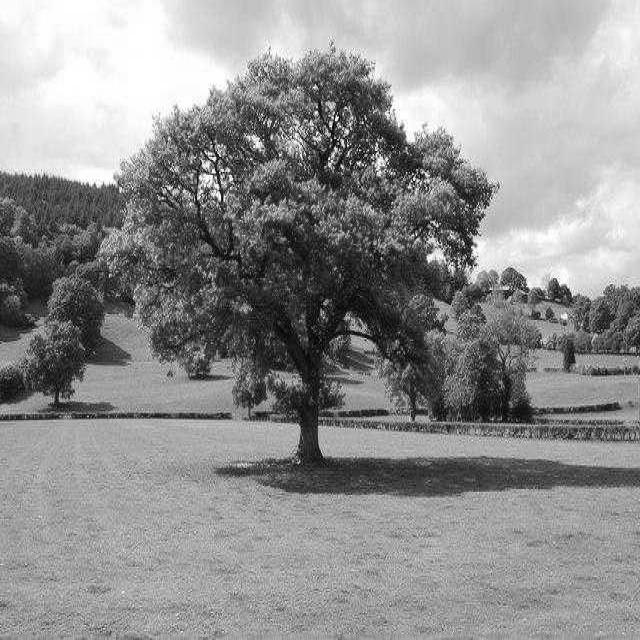Tree: (103, 48, 495, 464), (448, 297, 538, 420), (378, 295, 444, 420), (23, 319, 85, 406), (48, 274, 104, 350)
